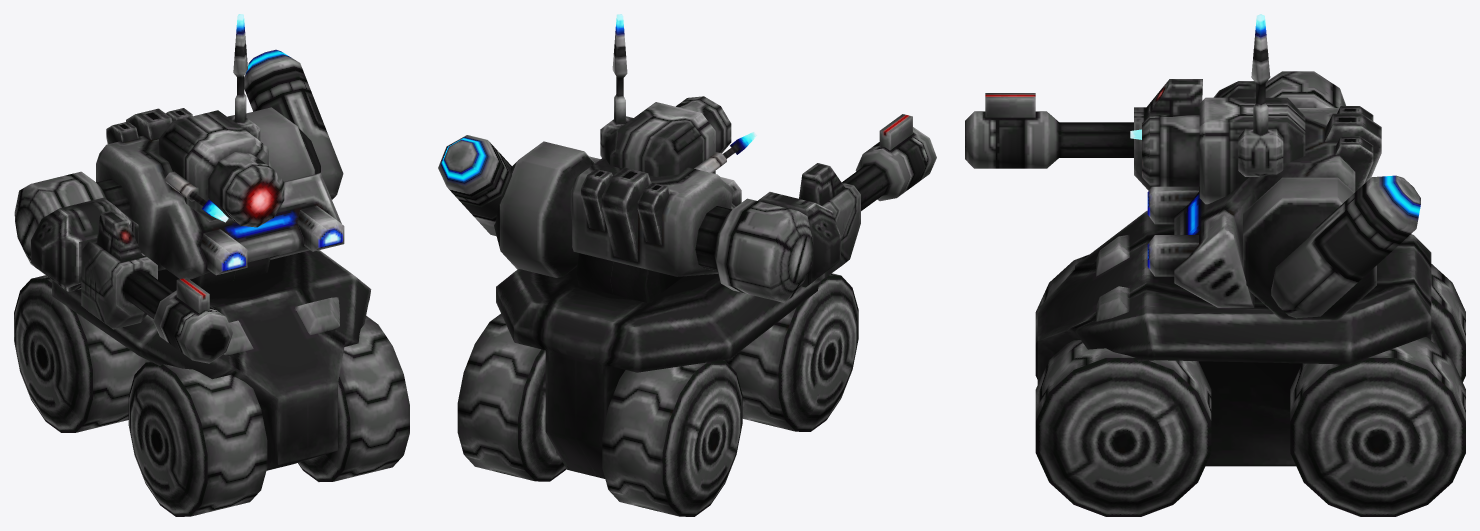
File: Spitfire.glb
3 views of the same model, side by side, from view 1: azimuth 30°, elevation 25°; view 2: azimuth 150°, elevation 25°; view 3: azimuth 270°, elevation 25° (orthographic). The views are drawn at different scales.
Parts seen in each view (by area): view 1: Mesh; view 2: Mesh; view 3: Mesh.
Part boxes in pixels (x1,y1,x2,y2): Mesh: (14, 14, 409, 516); Mesh: (438, 14, 936, 516); Mesh: (965, 14, 1465, 516).
Size of the model in its own units: 0.8614 by 1.06 by 1.04.
Materials: 1 (1 with a texture image).
